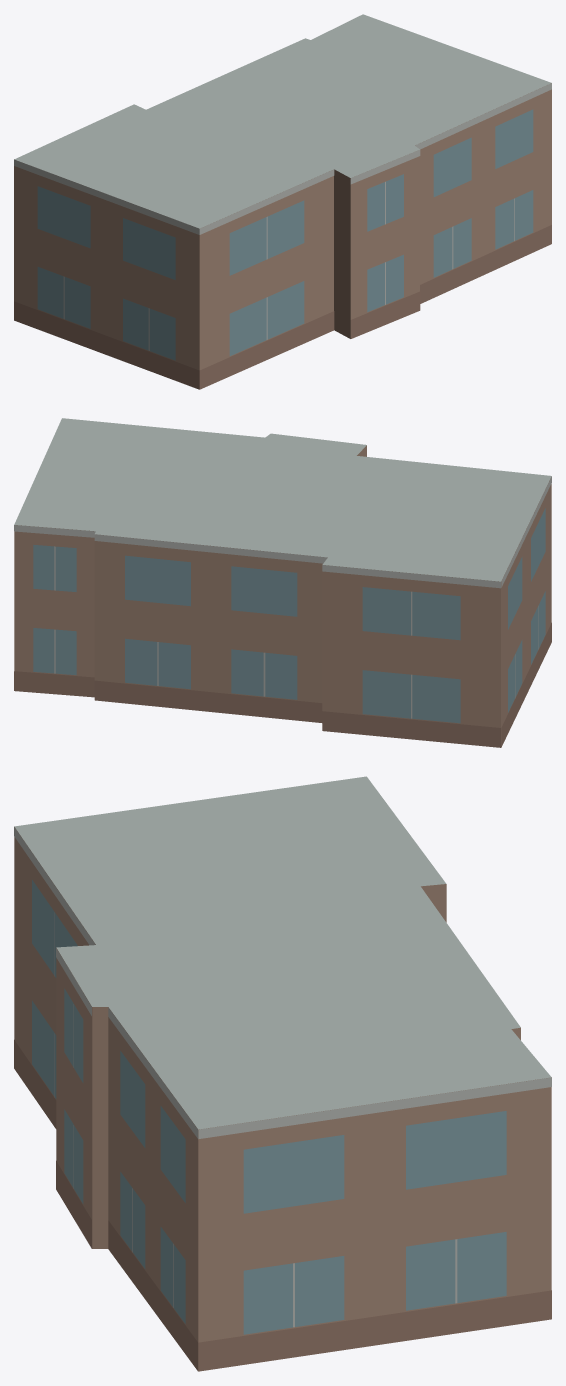
The model's file is survey-upis-32624070.glb.
The picture shows the model from 3 angles, top to bottom: view 1: azimuth 30°, elevation 25°; view 2: azimuth 150°, elevation 25°; view 3: azimuth 270°, elevation 25°; orthographic projection. The views are drawn at different scales.
Visible parts, largest first — view 1: survey-upis-32624070.tmp; view 2: survey-upis-32624070.tmp; view 3: survey-upis-32624070.tmp.
Part boxes in pixels (left/top/right/bottom): survey-upis-32624070.tmp: left=14, top=14, right=551, bottom=389; survey-upis-32624070.tmp: left=14, top=418, right=551, bottom=747; survey-upis-32624070.tmp: left=14, top=776, right=551, bottom=1371.
Size of the model in its own units: 19.11 by 6.1 by 12.29.
